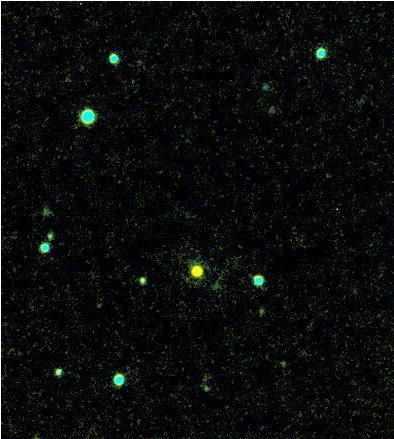star: (183, 256, 213, 286)
